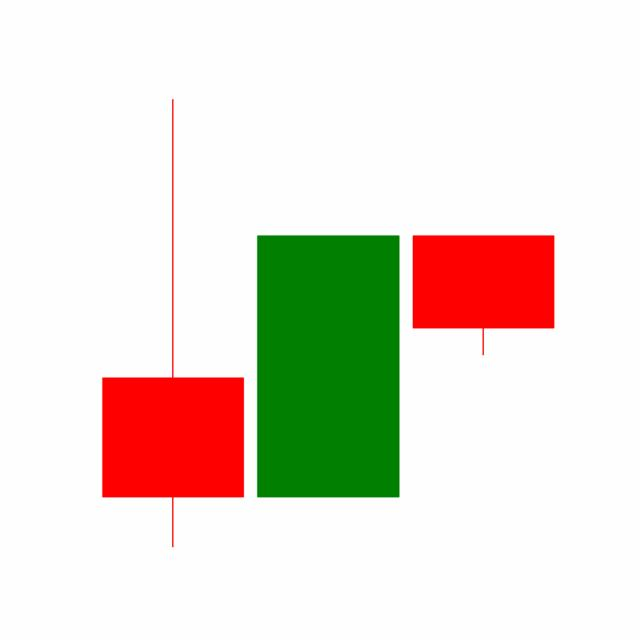Marubozu: (249, 231, 406, 499)
